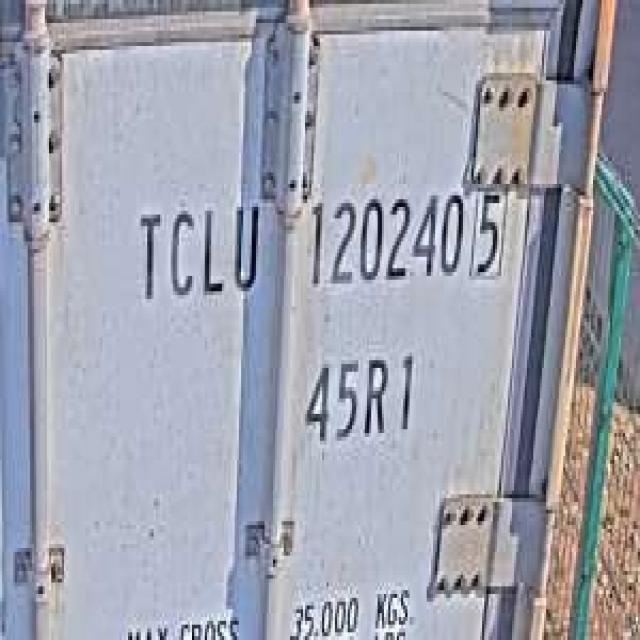dv: (469, 184, 510, 284)
owner: (130, 188, 265, 306)
serial: (301, 176, 465, 299)
size: (294, 337, 422, 452)
